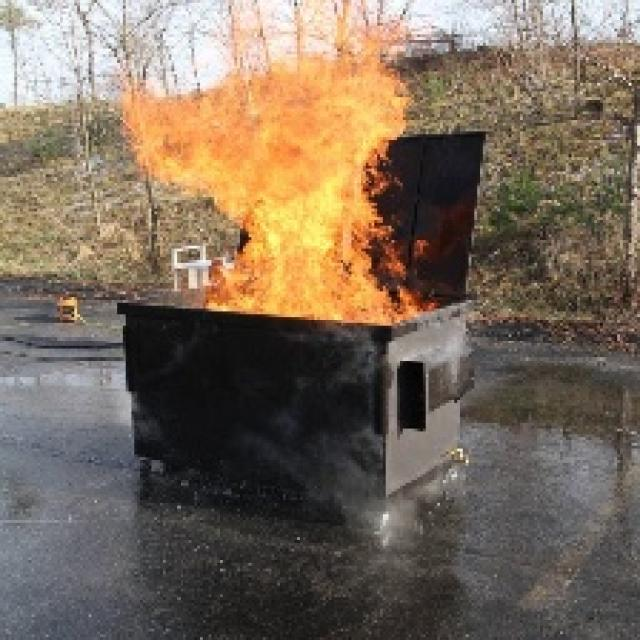Fire: (120, 33, 414, 320)
